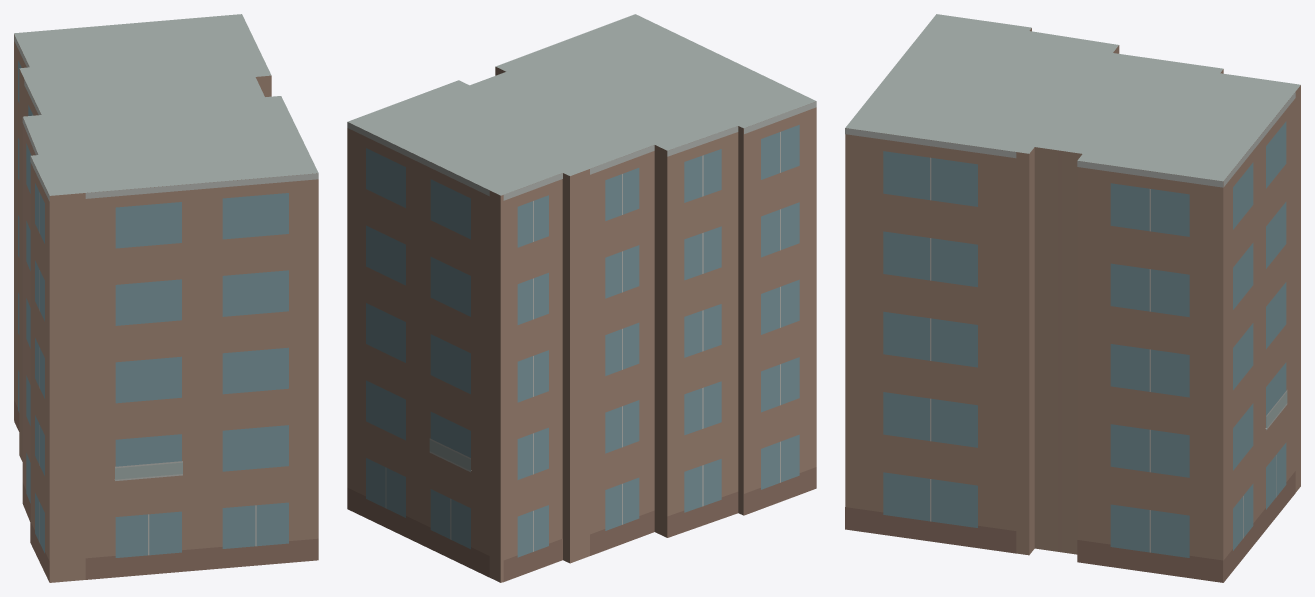
File: survey-upis-32934525.glb
The picture shows the model from 3 angles, left to right: view 1: azimuth 30°, elevation 25°; view 2: azimuth 150°, elevation 25°; view 3: azimuth 270°, elevation 25°; orthographic projection. The views are drawn at different scales.
Visible parts, largest first — view 1: survey-upis-32934525.tmp; view 2: survey-upis-32934525.tmp; view 3: survey-upis-32934525.tmp.
Part boxes in pixels (left/top/right/bottom): survey-upis-32934525.tmp: left=14, top=14, right=318, bottom=582; survey-upis-32934525.tmp: left=347, top=14, right=816, bottom=582; survey-upis-32934525.tmp: left=845, top=14, right=1300, bottom=582.
Bounding box in the file's own units: 13.96 × 15.6 × 16.05.
